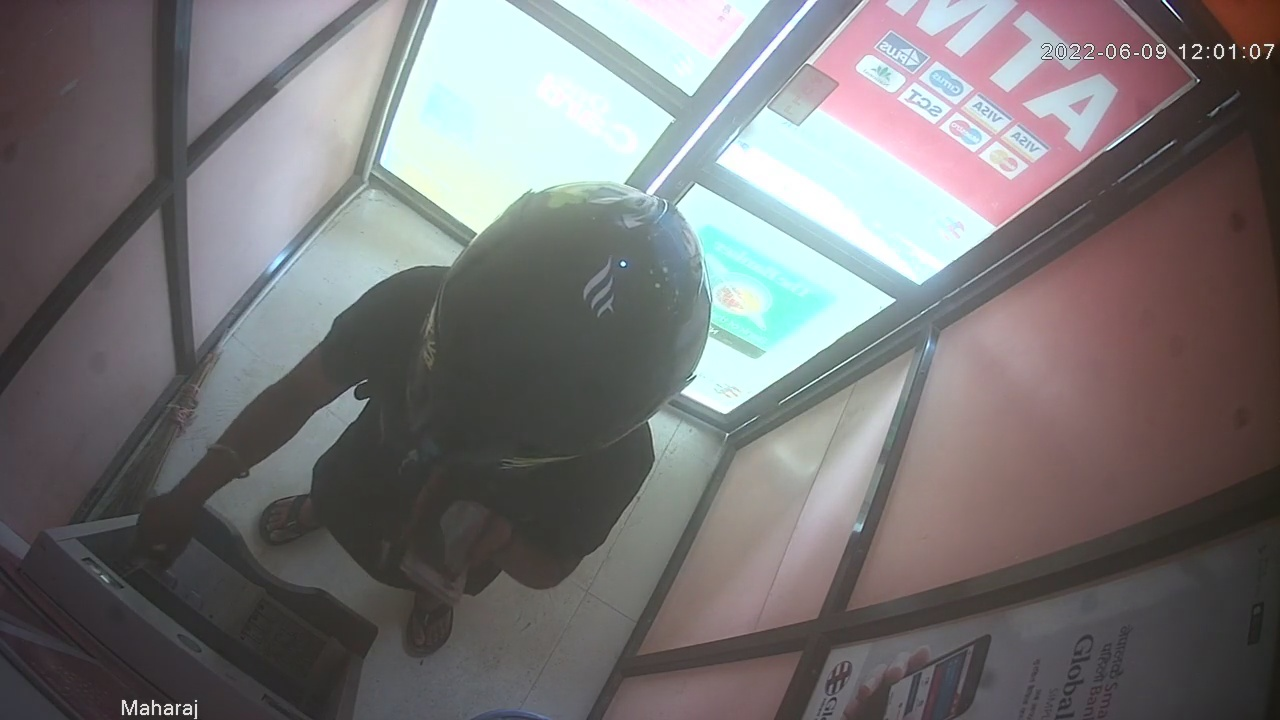helmet: (403, 179, 710, 464)
person: (134, 178, 712, 661)
